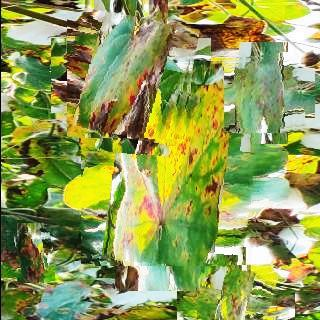blight: (80, 86, 259, 266), (66, 12, 194, 139), (223, 53, 303, 133), (196, 264, 275, 320), (6, 229, 54, 277)
